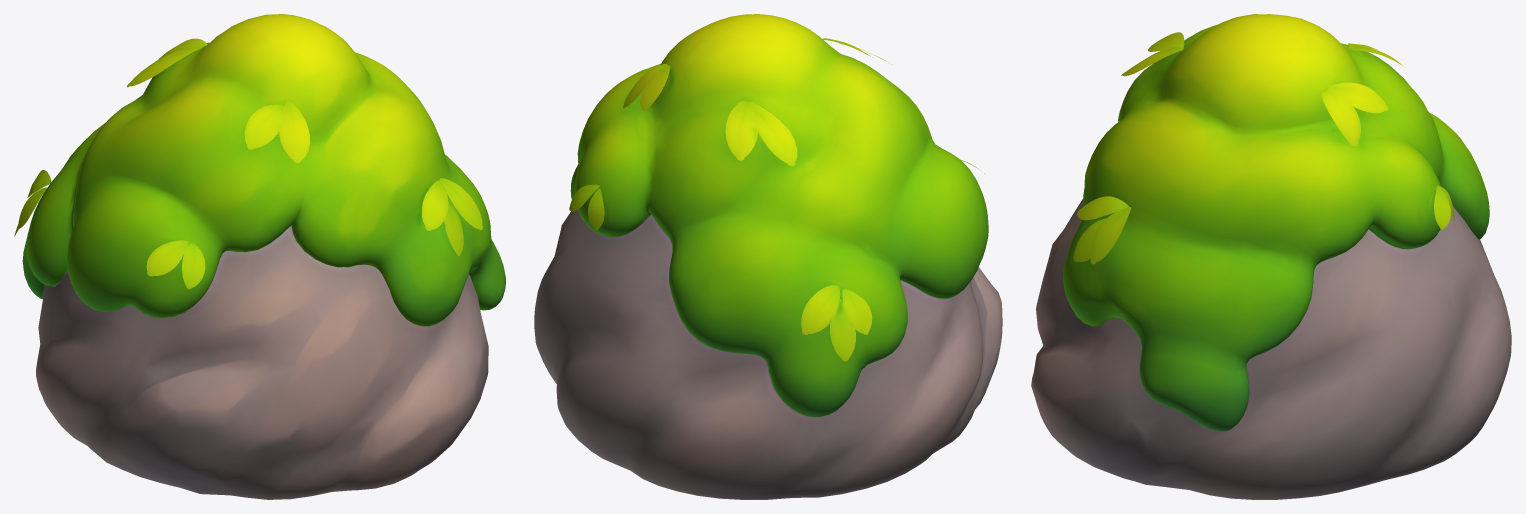
The model's file is mossy-boulder.glb.
3 views of the same model, side by side, from view 1: azimuth 30°, elevation 25°; view 2: azimuth 150°, elevation 25°; view 3: azimuth 270°, elevation 25° (orthographic). The views are drawn at different scales.
Parts seen in each view (by area): view 1: e9fee182_bf89_4ff8_8de9_178929715c85; view 2: e9fee182_bf89_4ff8_8de9_178929715c85; view 3: e9fee182_bf89_4ff8_8de9_178929715c85.
Boxes of the visible parts, x1=… form: e9fee182_bf89_4ff8_8de9_178929715c85: x1=14, y1=14, x2=505, y2=499; e9fee182_bf89_4ff8_8de9_178929715c85: x1=534, y1=14, x2=1002, y2=499; e9fee182_bf89_4ff8_8de9_178929715c85: x1=1031, y1=14, x2=1511, y2=499.
Size of the model in its own units: 0.9995 by 0.9312 by 0.9858.
1 material, 1 textured.
